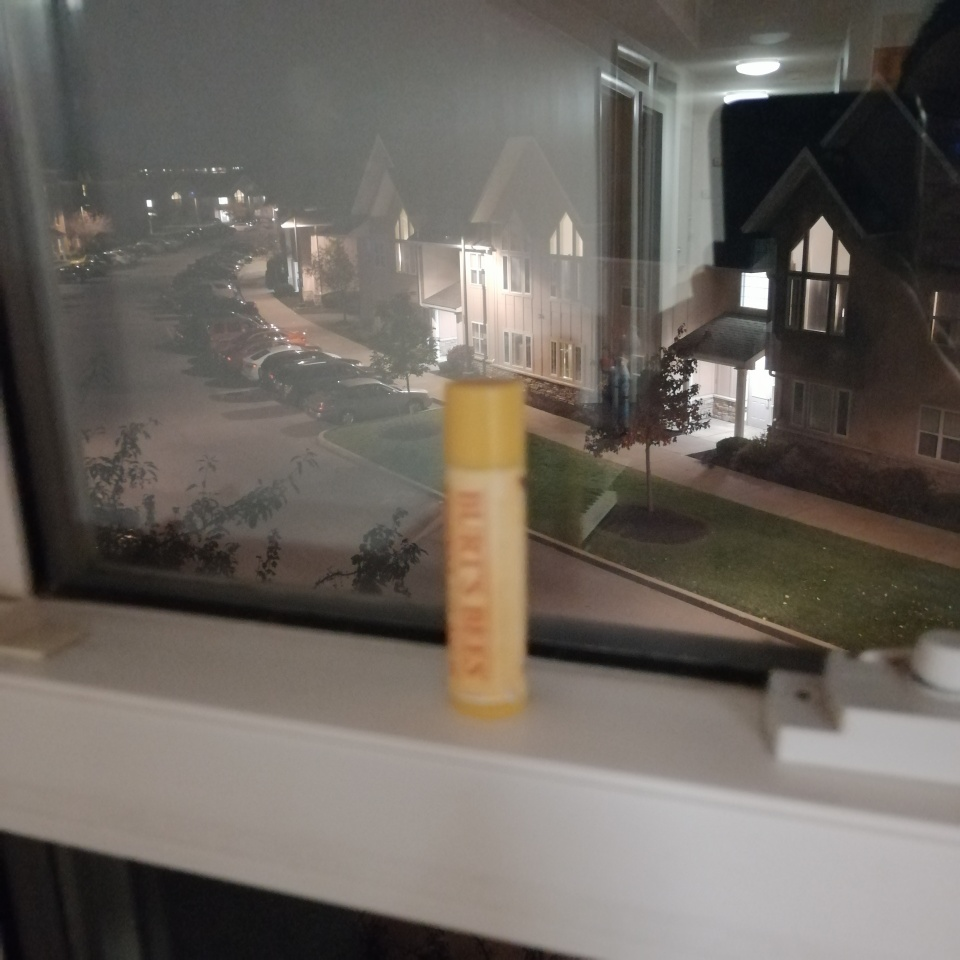chapstick: (443, 378, 532, 714)
